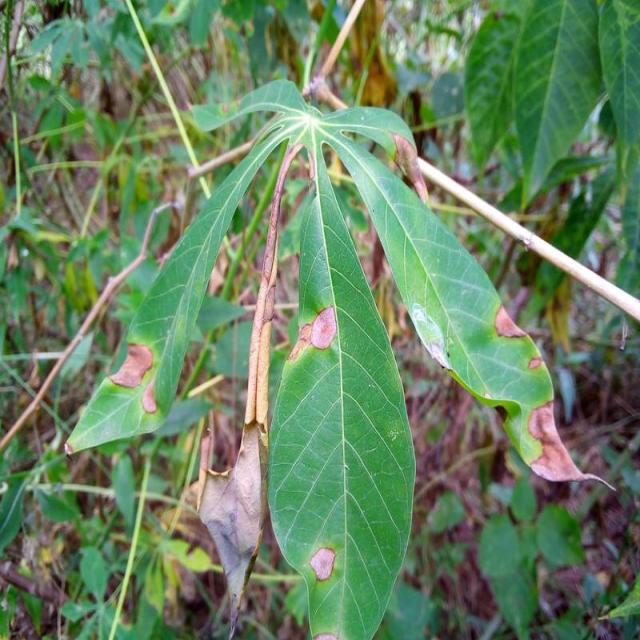cassava leaf: (66, 74, 611, 636), (266, 149, 418, 638)
